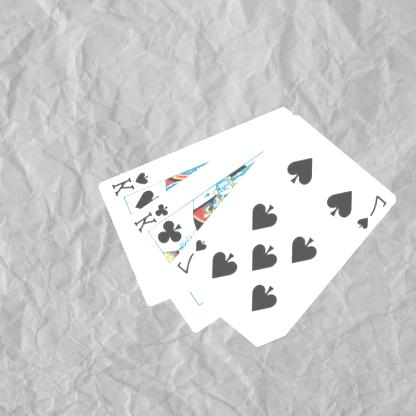7S: (175, 236, 210, 276), (355, 192, 390, 231)
KC: (132, 200, 179, 235)
KS: (110, 169, 151, 198)
